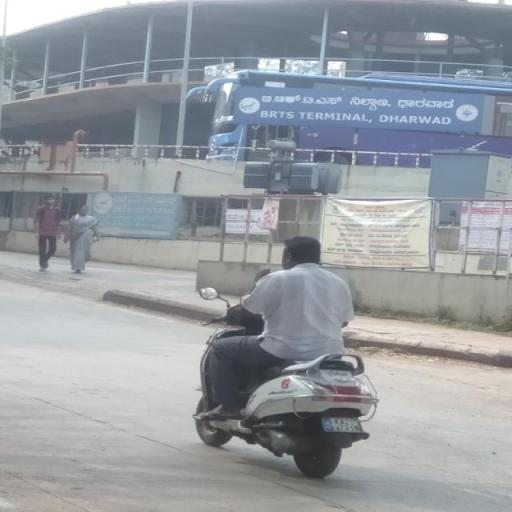bike: (188, 234, 388, 470)
numberplate: (324, 418, 363, 434)
withouthelmet: (282, 237, 320, 266)
